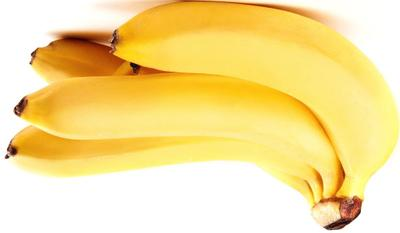banana: (0, 0, 400, 233)
